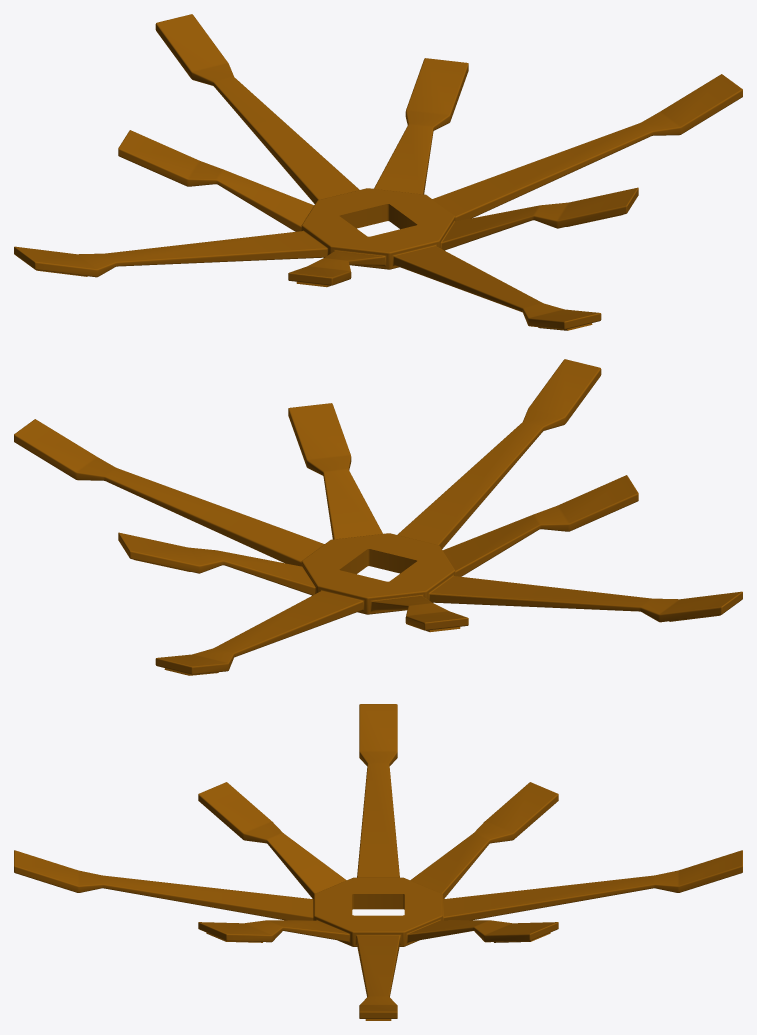
File: Street_Lamp_Light_03.fbx
3 renders of one model, top to bottom at view 1: azimuth 30°, elevation 25°; view 2: azimuth 150°, elevation 25°; view 3: azimuth 270°, elevation 25°, orthographic. The views are drawn at different scales.
Parts seen in each view (by area): view 1: Street_Lamp_Lights_03; view 2: Street_Lamp_Lights_03; view 3: Street_Lamp_Lights_03.
Boxes of the visible parts, x1=… form: Street_Lamp_Lights_03: x1=14, y1=14, x2=742, y2=330; Street_Lamp_Lights_03: x1=14, y1=359, x2=742, y2=675; Street_Lamp_Lights_03: x1=14, y1=704, x2=742, y2=1020.
Size of the model in its own units: 500 by 46.96 by 500.
